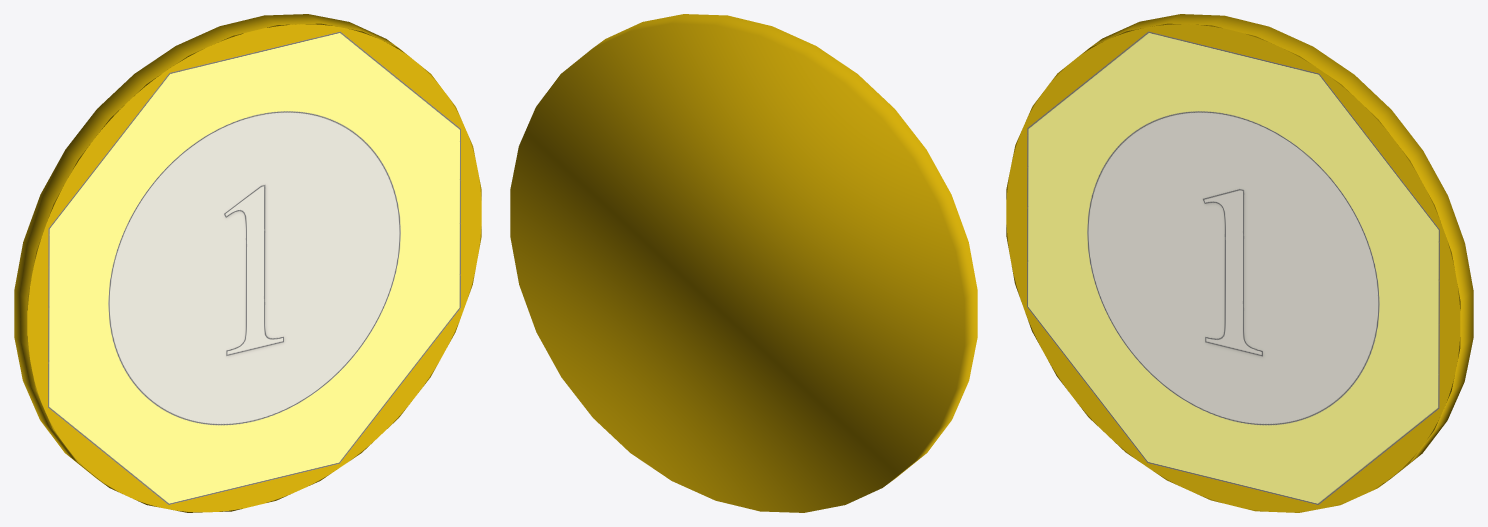
Rendered from coin.fbx.
The picture shows the model from 3 angles, left to right: view 1: azimuth 30°, elevation 25°; view 2: azimuth 150°, elevation 25°; view 3: azimuth 330°, elevation 25°; orthographic projection.
Parts seen in each view (by area): view 1: Coin; view 2: Coin; view 3: Coin.
Boxes of the visible parts, <box> form: Coin: <box>14,14,481,512</box>; Coin: <box>510,14,977,512</box>; Coin: <box>1006,14,1473,512</box>.
Bounding box in the file's own units: 92.92 × 92.92 × 4.67.
Materials: 2 (1 with a texture image).
